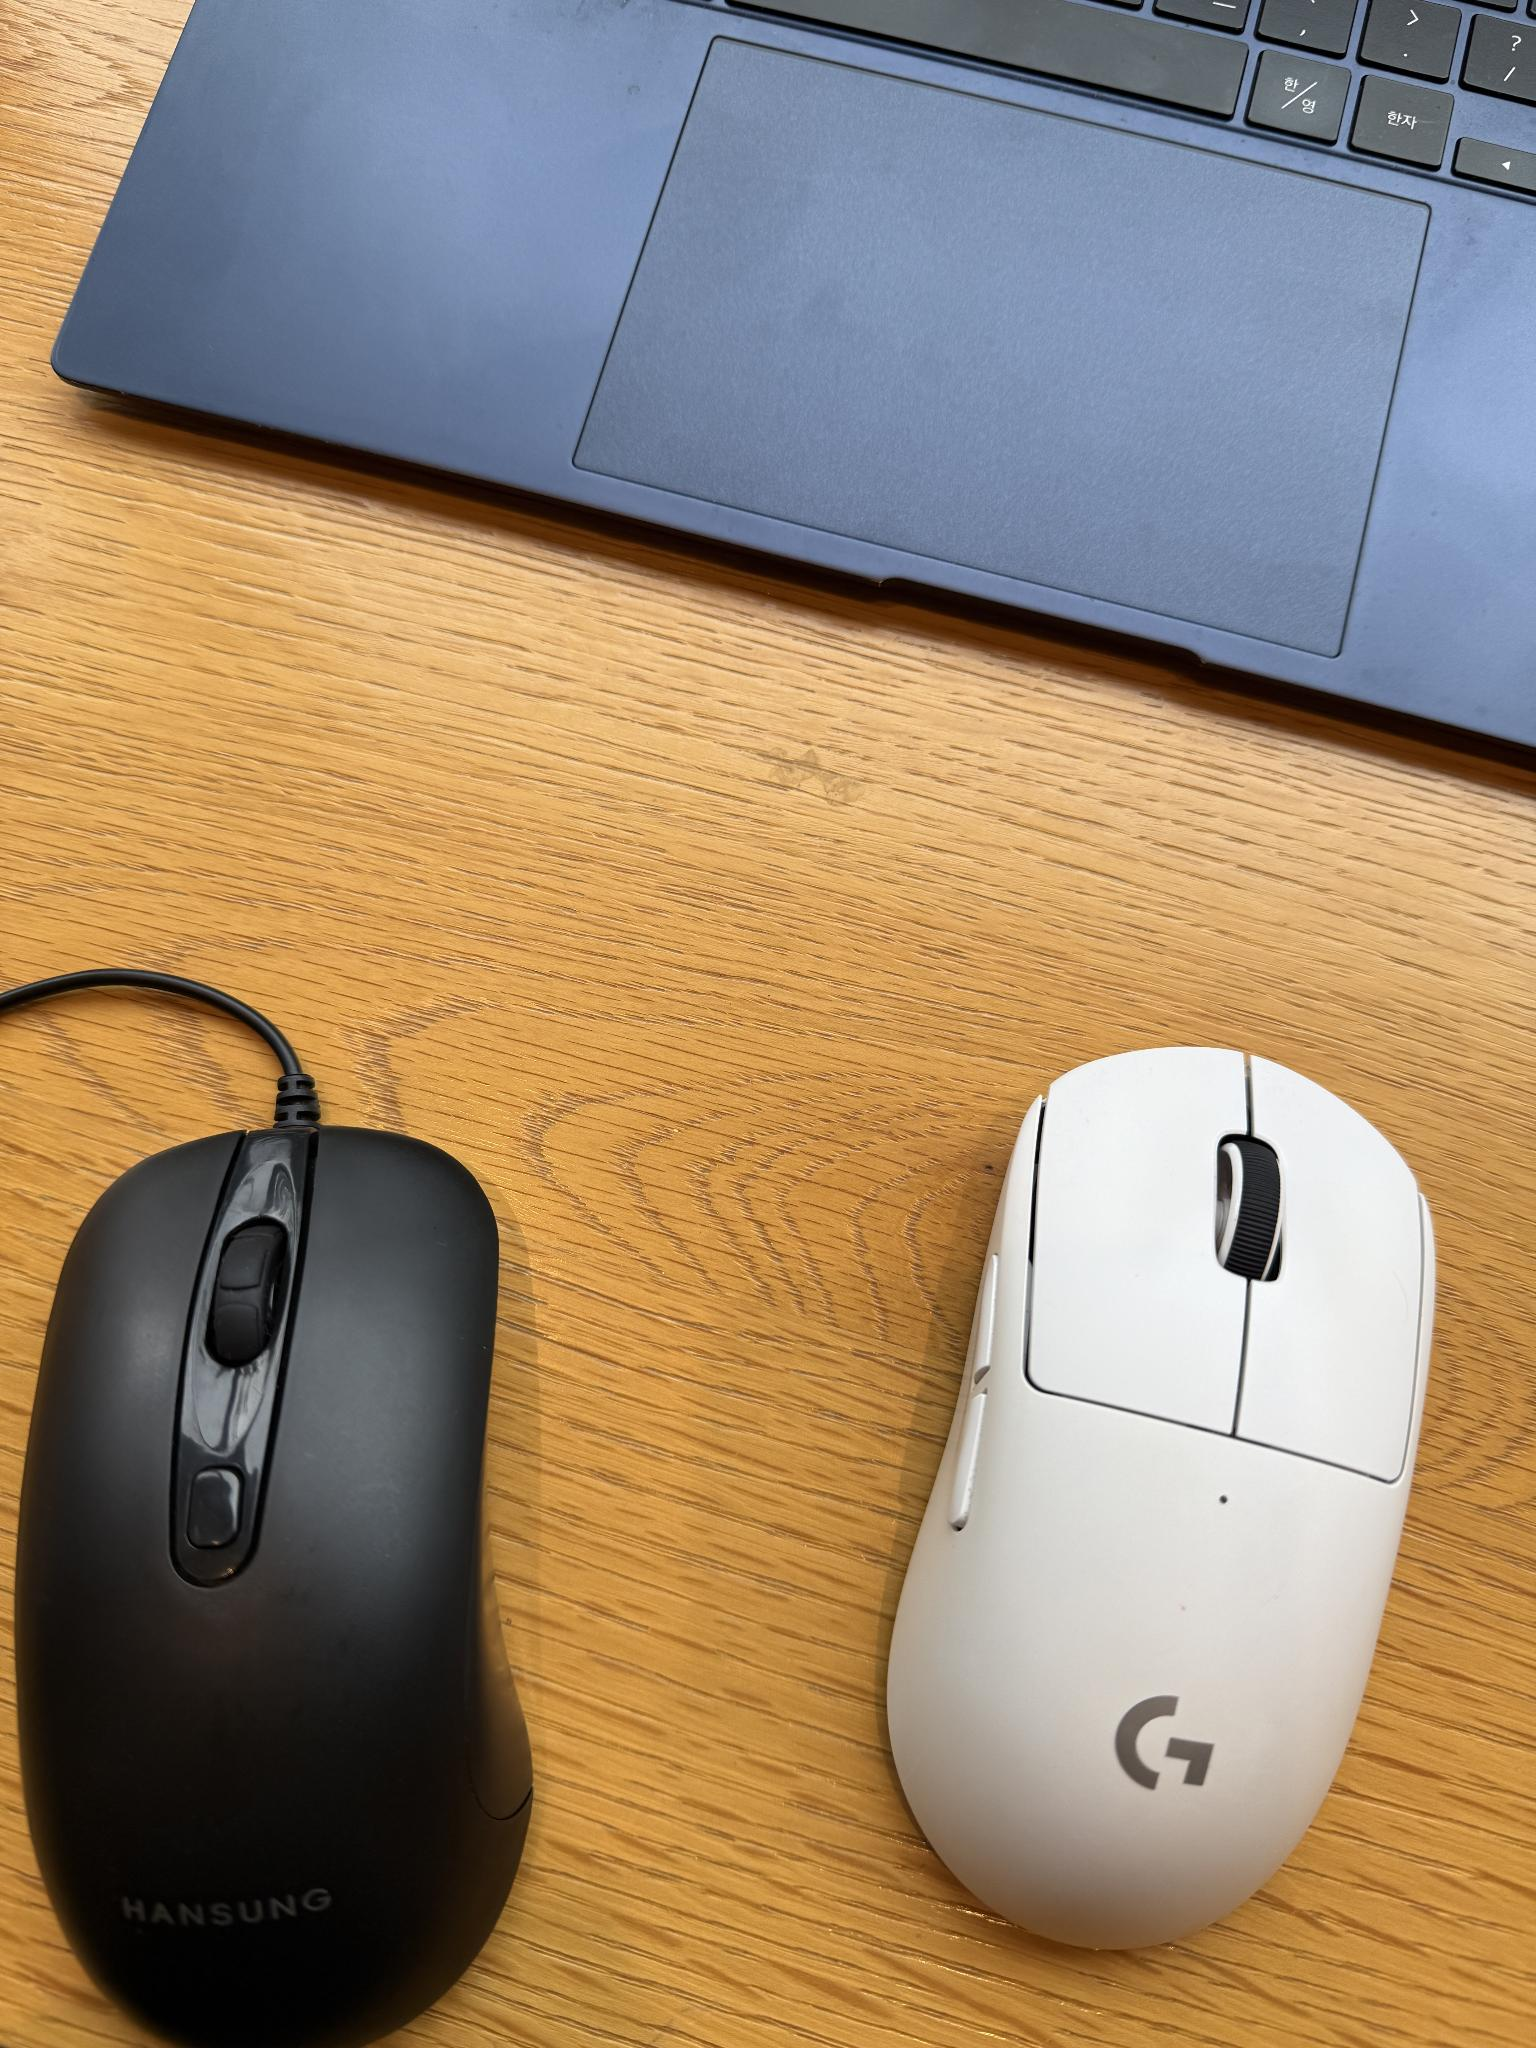front: (883, 1029, 1441, 1954), (21, 1114, 528, 2048)
